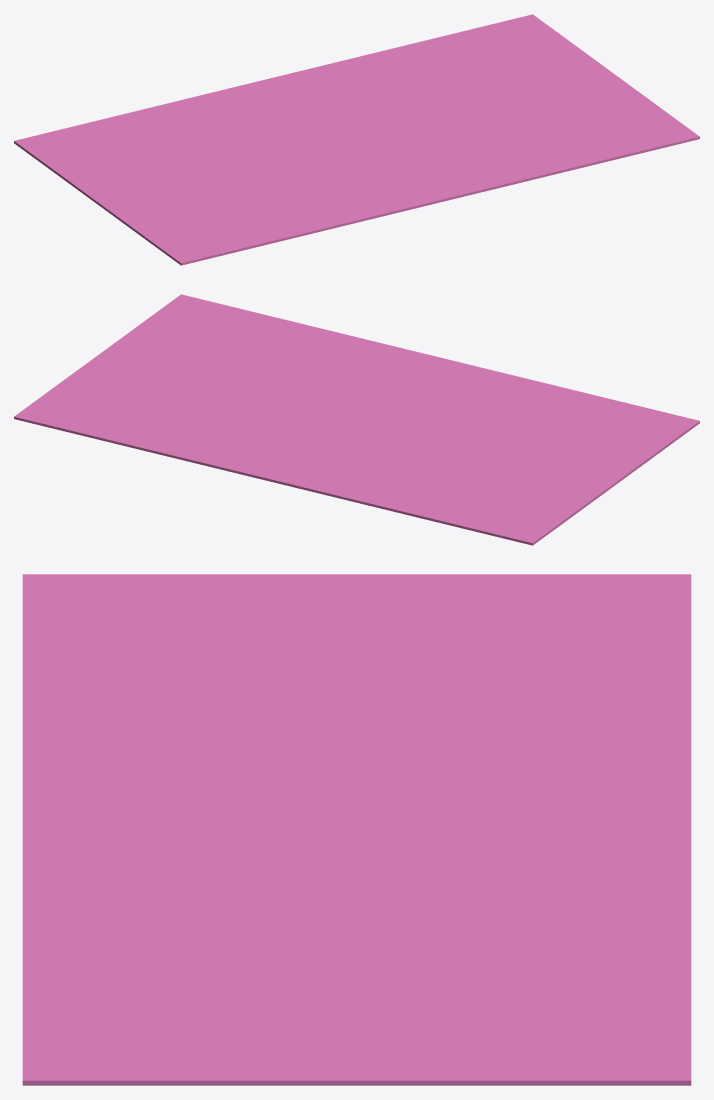
File: butterfly.fbx
3 renders of one model, top to bottom at view 1: azimuth 30°, elevation 25°; view 2: azimuth 150°, elevation 25°; view 3: azimuth 270°, elevation 25°, orthographic. The views are drawn at different scales.
Parts seen in each view (by area): view 1: R_Wing_Geo, R_Wing_Geo1; view 2: R_Wing_Geo, R_Wing_Geo1; view 3: R_Wing_Geo1, R_Wing_Geo.
Part boxes in pixels (left/top/right/bottom): R_Wing_Geo: left=14, top=77, right=440, bottom=265; R_Wing_Geo1: left=274, top=14, right=699, bottom=201; R_Wing_Geo: left=273, top=357, right=699, bottom=545; R_Wing_Geo1: left=14, top=294, right=439, bottom=481; R_Wing_Geo1: left=22, top=827, right=691, bottom=1085; R_Wing_Geo: left=22, top=574, right=691, bottom=827.
Size of the model in its own units: 1.39 by 0.0061 by 0.7761.
